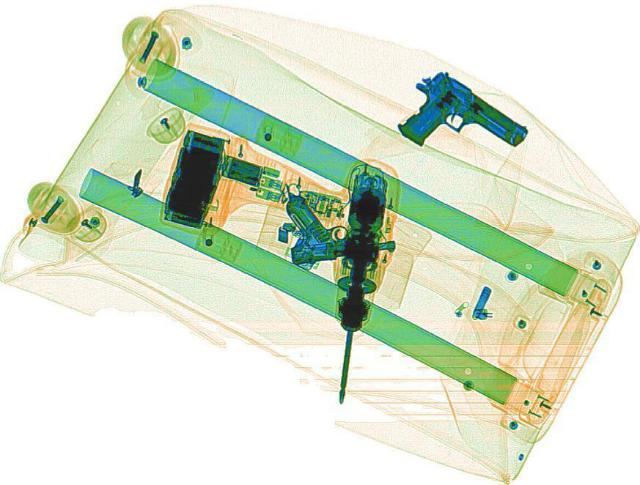Gun: (372, 66, 534, 177), (270, 183, 398, 262)
